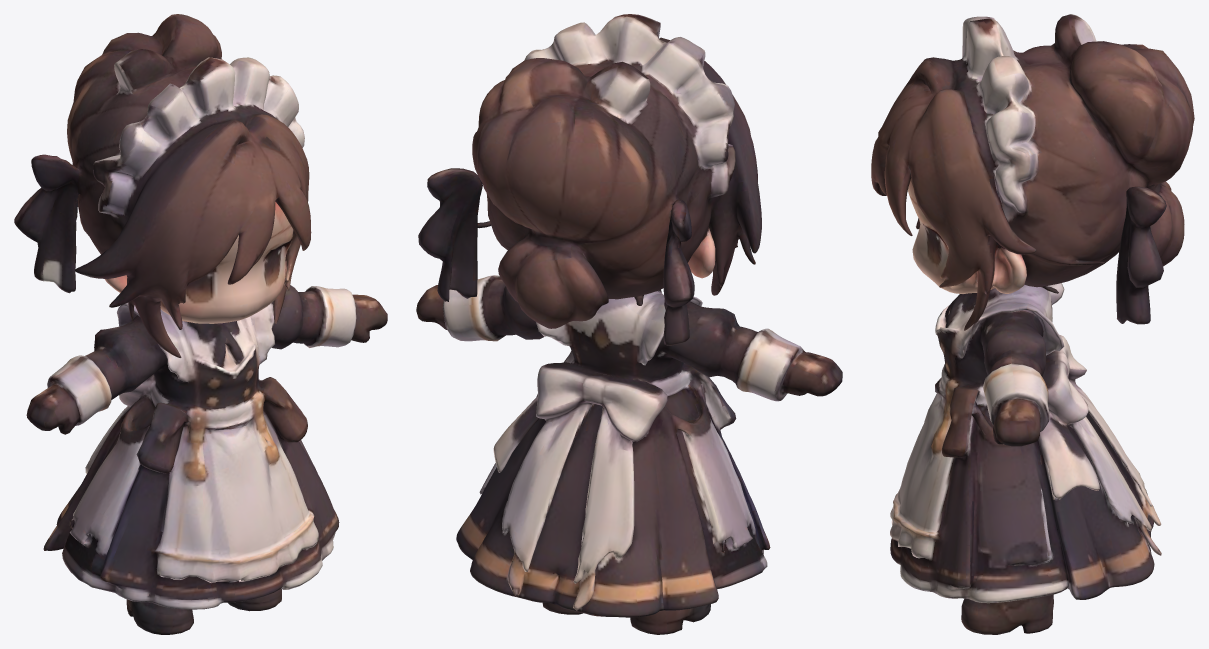
File: butler.glb
3 renders of one model, left to right at view 1: azimuth 30°, elevation 25°; view 2: azimuth 150°, elevation 25°; view 3: azimuth 270°, elevation 25°, orthographic. The views are drawn at different scales.
Parts seen in each view (by area): view 1: tripo_node_8ff5dbd7-793c-494a-b290-9e4edf63adb2; view 2: tripo_node_8ff5dbd7-793c-494a-b290-9e4edf63adb2; view 3: tripo_node_8ff5dbd7-793c-494a-b290-9e4edf63adb2.
Part boxes in pixels (x1,y1,x2,y2): tripo_node_8ff5dbd7-793c-494a-b290-9e4edf63adb2: [14, 14, 387, 634]; tripo_node_8ff5dbd7-793c-494a-b290-9e4edf63adb2: [416, 14, 842, 634]; tripo_node_8ff5dbd7-793c-494a-b290-9e4edf63adb2: [871, 14, 1194, 634].
Bounding box in the file's own units: 0.6886 × 0.9761 × 0.492.
Materials: 1 (1 with a texture image).
